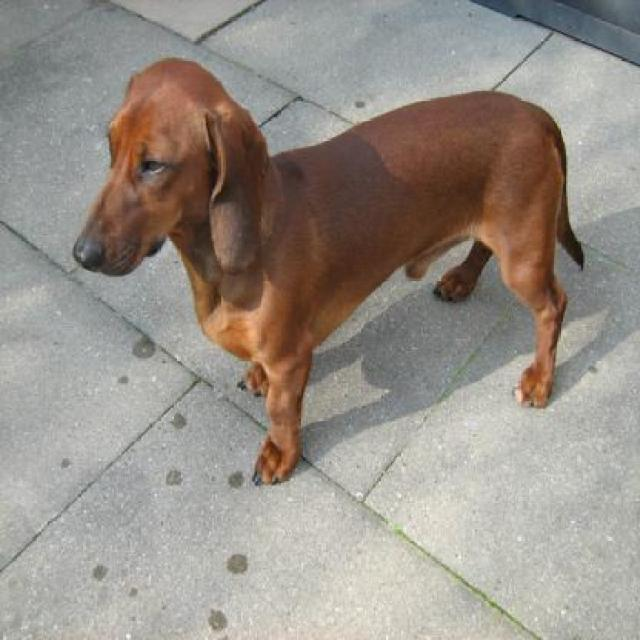Dog: (70, 48, 584, 486)
